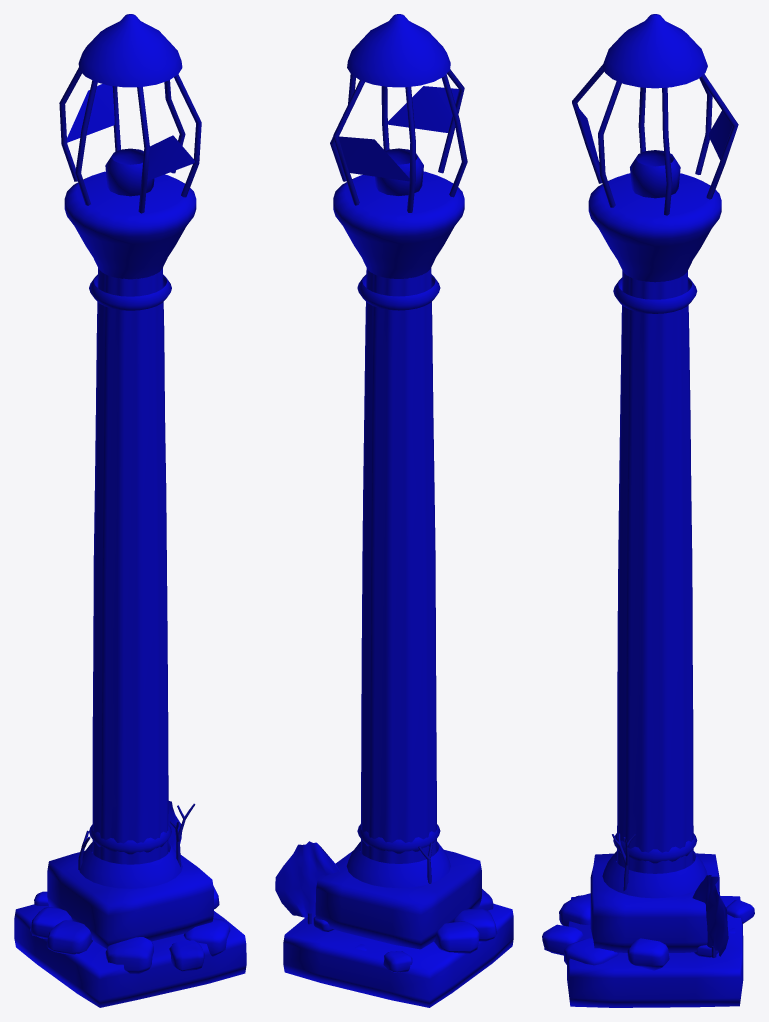
The model's file is lamp_column.glb.
3 renders of one model, left to right at view 1: azimuth 30°, elevation 25°; view 2: azimuth 150°, elevation 25°; view 3: azimuth 270°, elevation 25°, orthographic.
Parts seen in each view (by area): view 1: lamp_column; view 2: lamp_column; view 3: lamp_column.
Part boxes in pixels (x1,y1,x2,y2): lamp_column: (14,14,246,1007); lamp_column: (275,14,513,1007); lamp_column: (542,14,754,1007).
Size of what is drawn, in the model's own units: 1.06 by 5.41 by 1.09.
